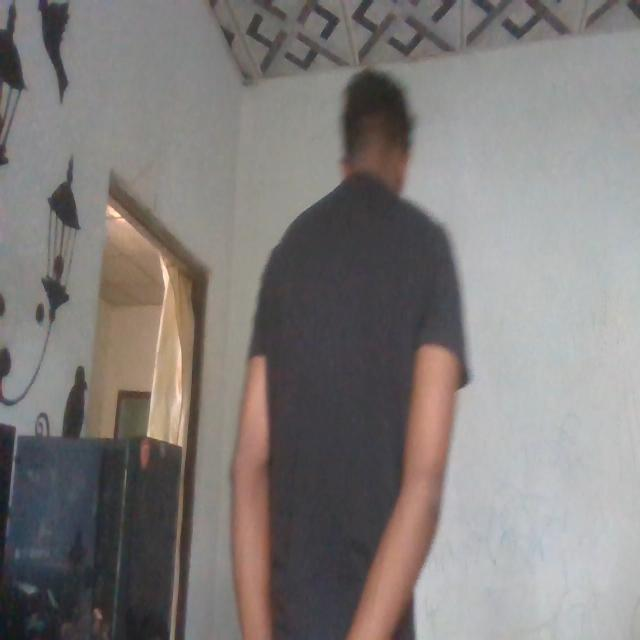Person: (230, 61, 468, 640)
